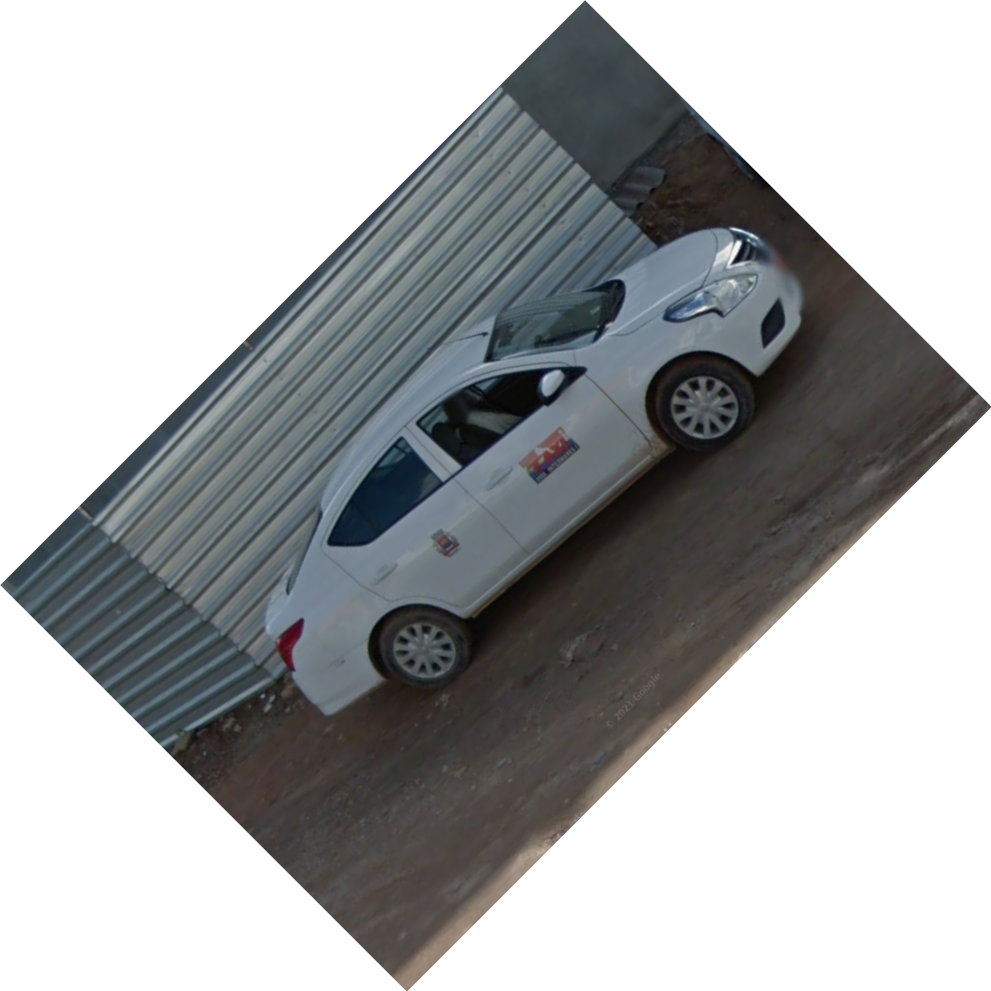car: (258, 219, 806, 718)
